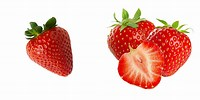Fresa: (25, 24, 75, 78), (117, 39, 163, 90), (150, 25, 193, 78), (106, 17, 156, 60)
